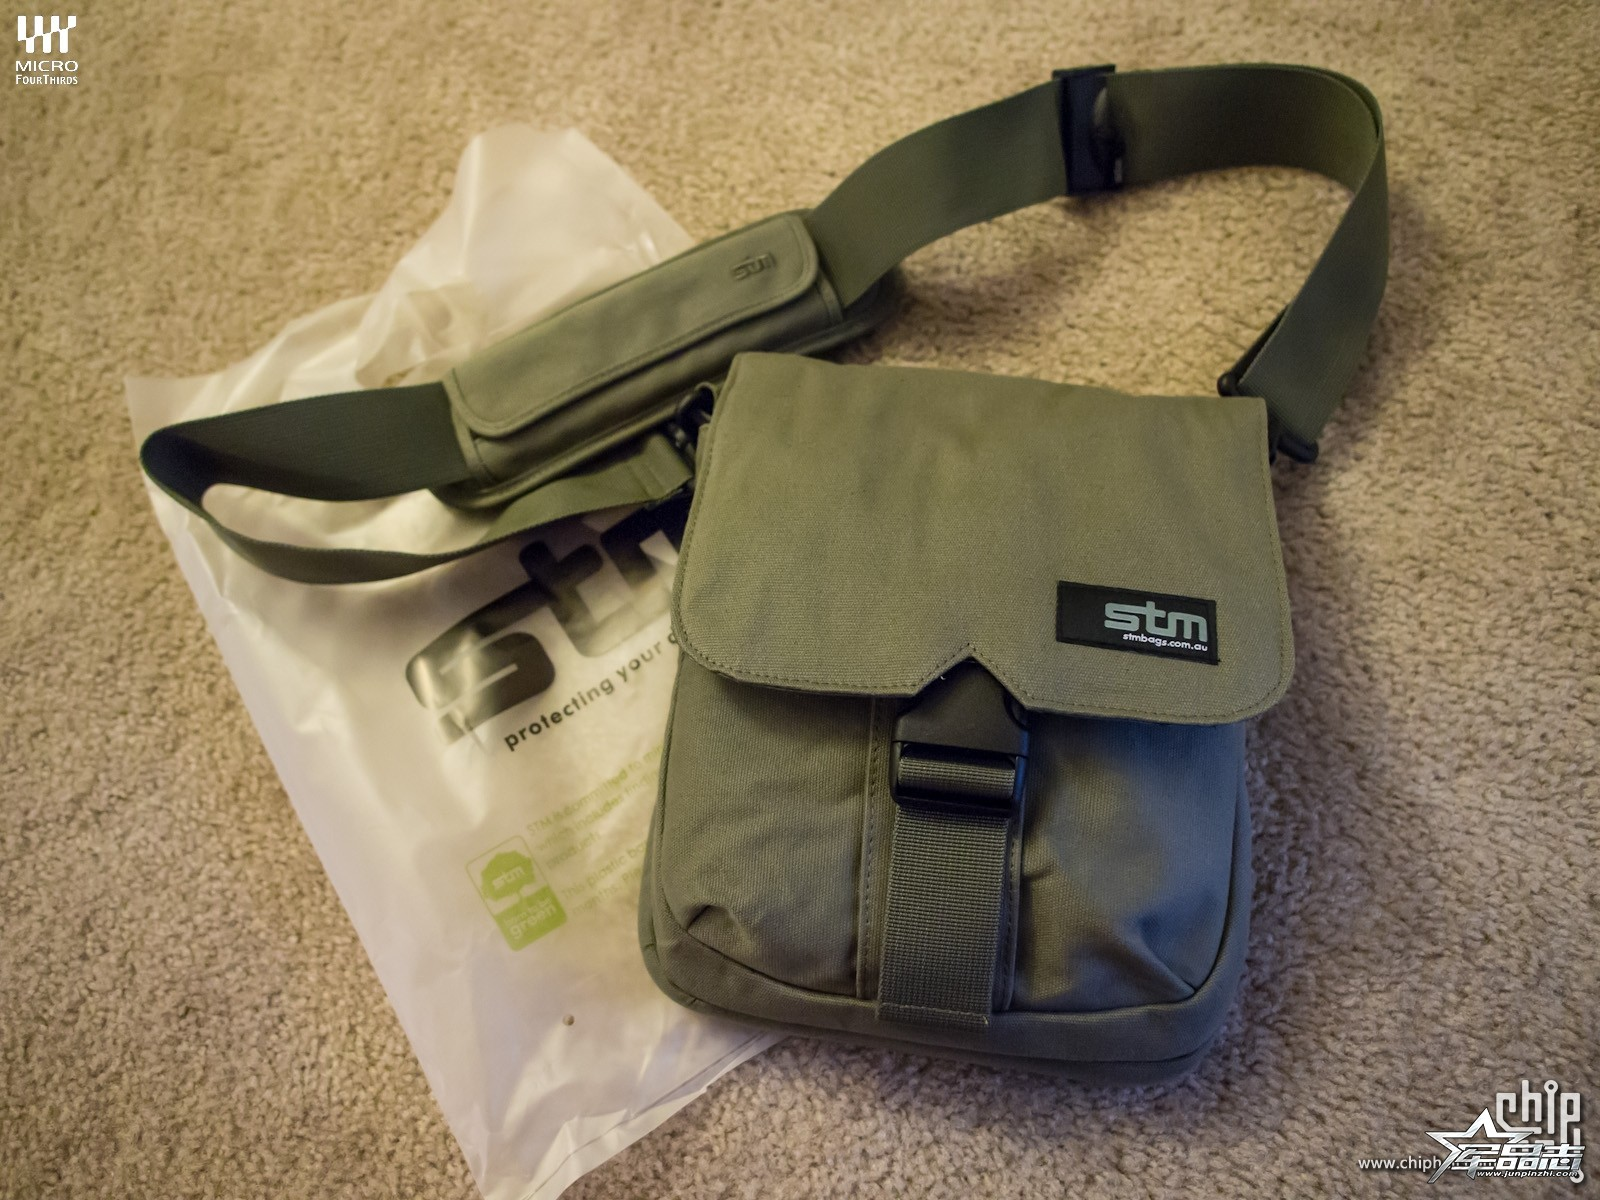flexible: (619, 316, 1322, 1083)
